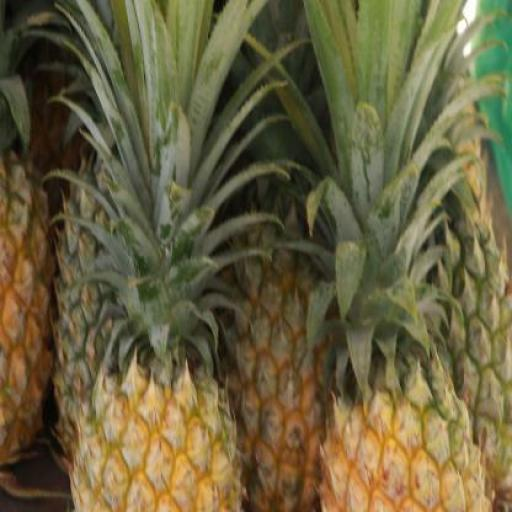Pineapple - v8 v1: (72, 368, 238, 512), (321, 387, 490, 512)
